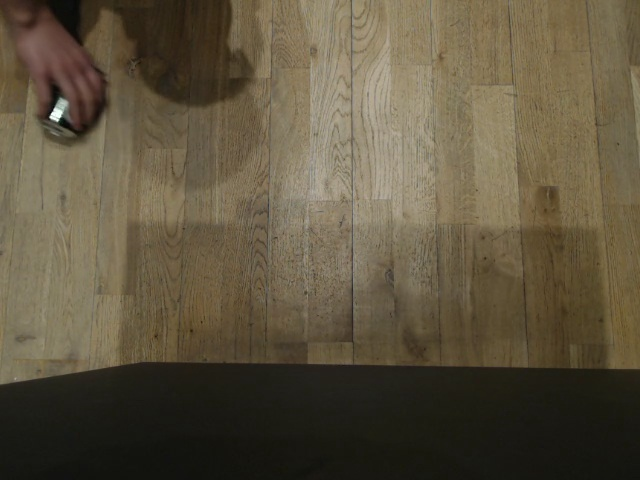beer: (39, 61, 103, 145)
